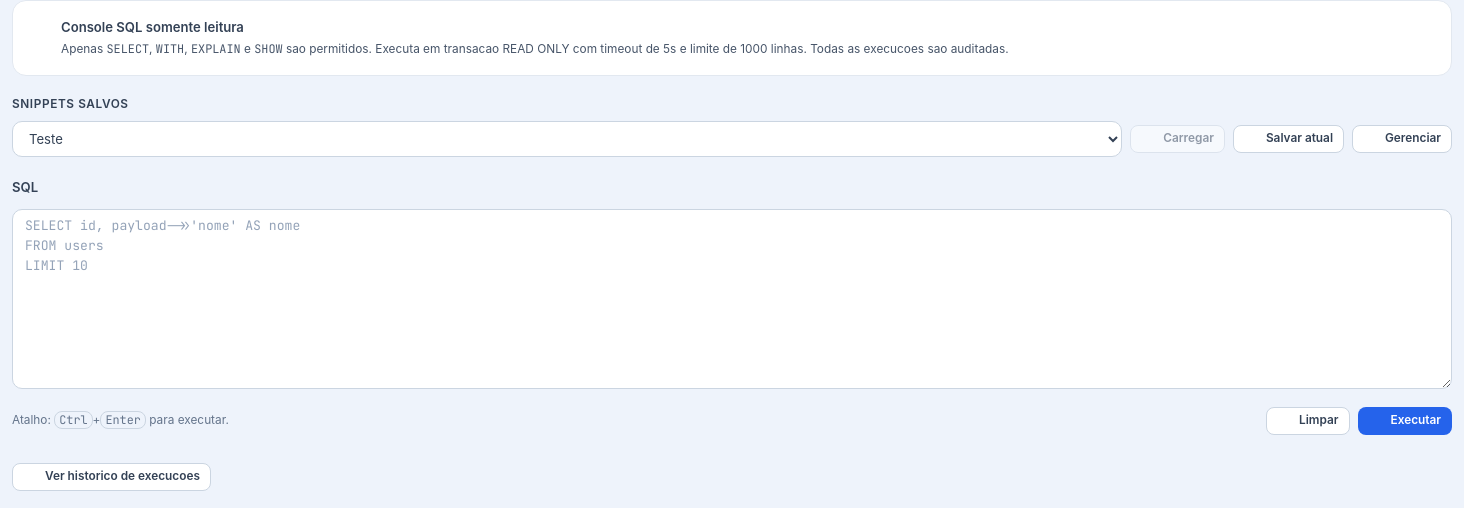
Test case: SqlExecutorPanel › carrega snippet selecionado no textarea ao clicar Carregar
Select "Teste" in the dropdown with id "admin-sql-snippet-select": (567, 139) [12,121,1122,157]
Select "Teste" in the dropdown with id "admin-sql-snippet-select": (567, 139) [12,121,1122,157]
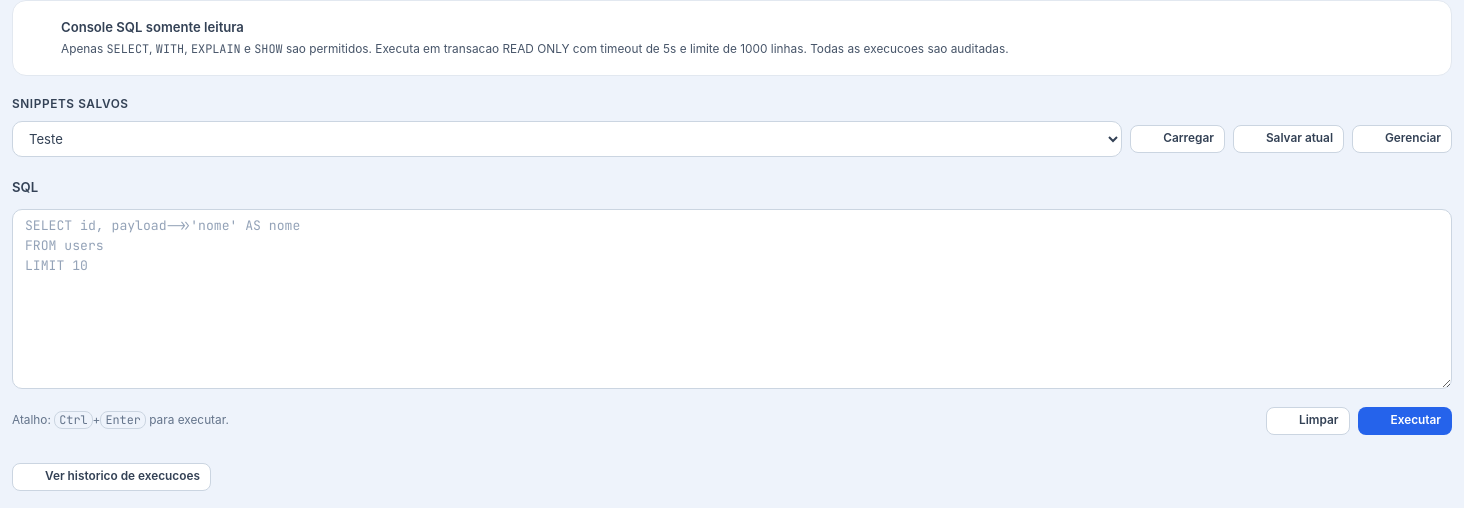
Click the button "Carregar": (1178, 139) [1130,125,1225,153]
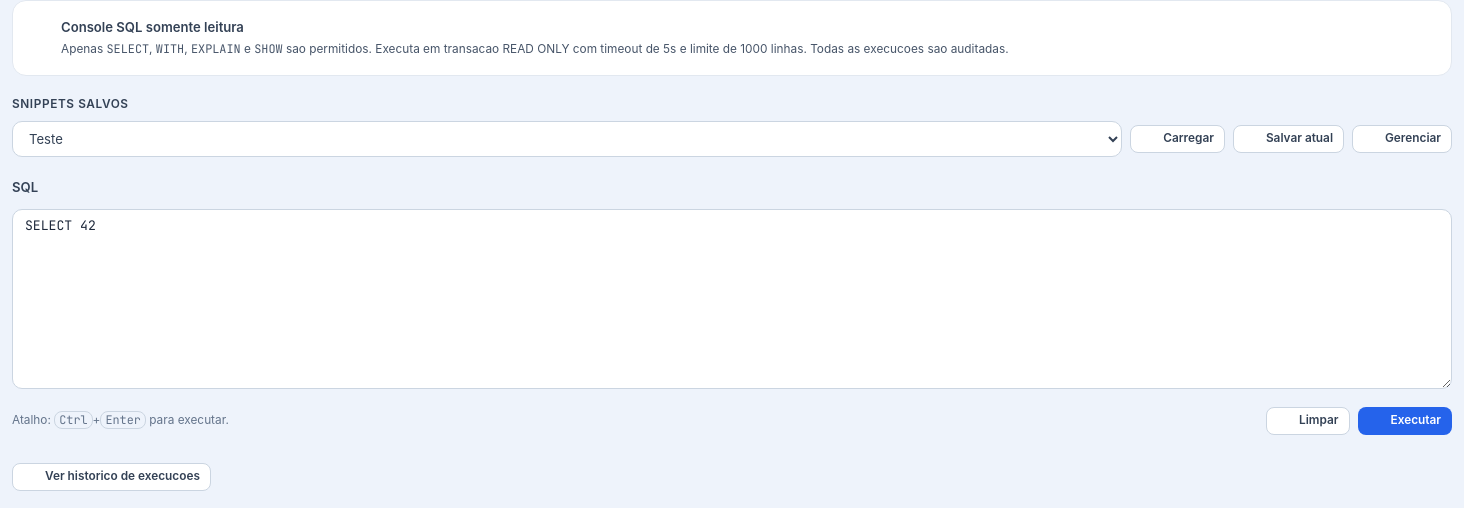
expect the text box with id "admin-sql-input" holds "SELECT 42": met, box [12,209,1452,389]
